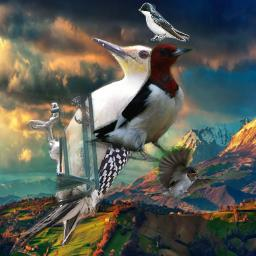Swallow: (148, 146, 248, 199), (138, 2, 190, 42)
Woodpecker: (9, 33, 175, 255), (85, 43, 196, 162)
